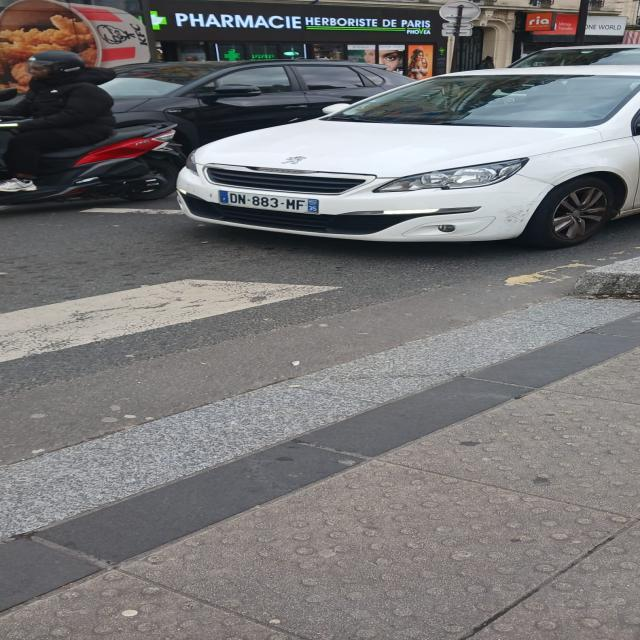EU: (219, 190, 319, 213)
France: (218, 190, 229, 203)
